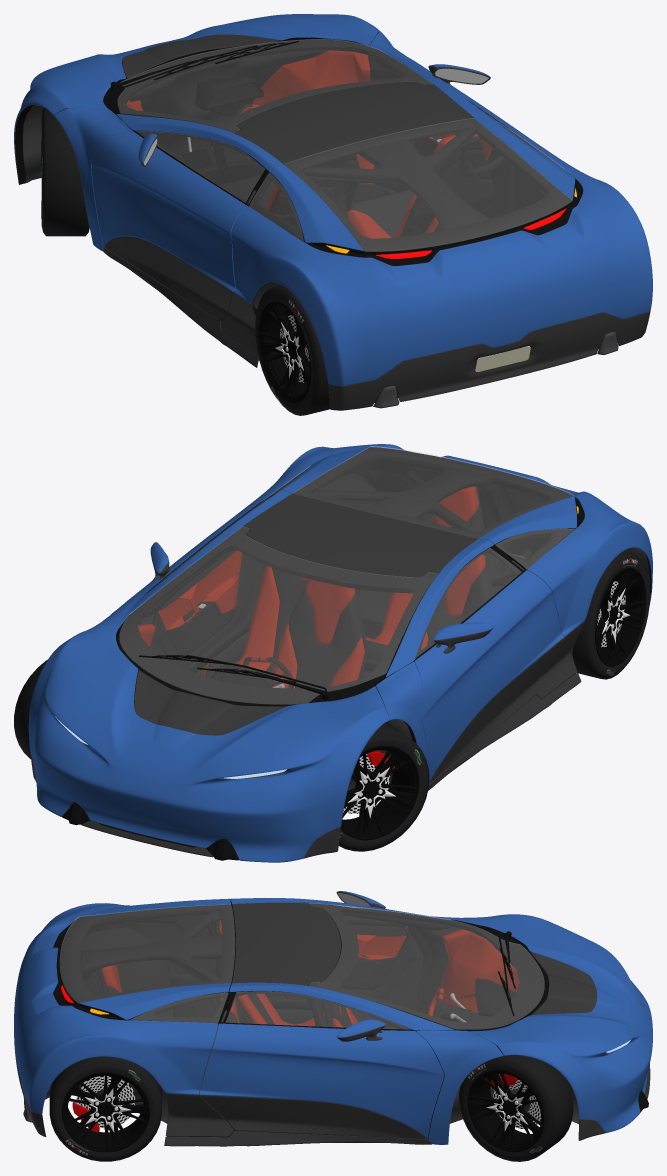
The model's file is car.glb.
3 renders of one model, top to bottom at view 1: azimuth 30°, elevation 25°; view 2: azimuth 150°, elevation 25°; view 3: azimuth 270°, elevation 25°, orthographic. The views are drawn at different scales.
Parts seen in each view (by area): view 1: Body, WheelRL, WheelFL; view 2: Body, WheelFL, WheelRL, WheelFR; view 3: Body, WheelFR, WheelRR.
Part boxes in pixels (x1,y1,x2,y2): Body: (14,14,652,410); WheelRL: (255,285,329,415); WheelFL: (41,108,89,236); Body: (28,444,652,862); WheelFL: (338,722,429,851); WheelRL: (572,551,649,679); WheelFR: (14,660,47,759); Body: (14,891,652,1146); WheelFR: (459,1053,573,1161); WheelRR: (49,1056,161,1161).
Bounding box in the file's own units: 2.24 × 1.01 × 3.85.
Materials: 23 (2 with a texture image).
